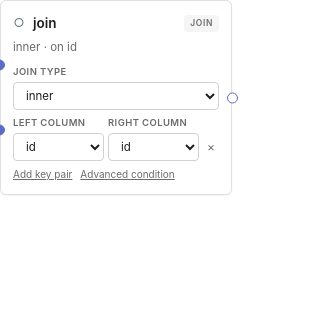
Scenario: Join card — join types come from the backend spec (UX-05) › uses separate port-aware selectors and serializes ordered heterogeneous pairs
The image size is (320, 315).
Expected: the dropdown named "Right key 1" shows "id", x1=108 y1=133 x2=199 y2=161
Expected: the dropdown named "Right key 1" does not show "_rowid", x1=108 y1=133 x2=199 y2=161
Select "_rowid" in the dropdown named "Left key 1" at {"x": 58, "y": 147}, box x1=13 y1=133 x2=104 y2=161
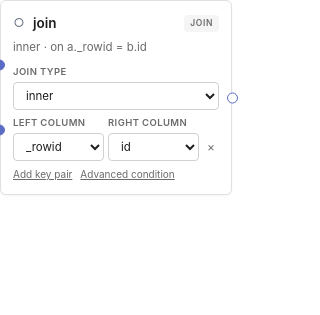
Select "original_row_id" in the dropdown named "Right key 1" at {"x": 154, "y": 147}, box x1=108 y1=133 x2=199 y2=161
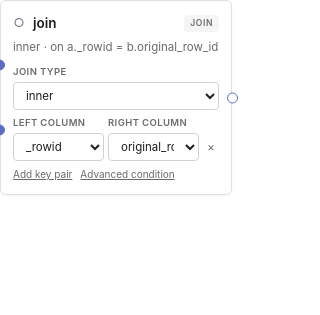
Click the button "Add key pair" at {"x": 43, "y": 174}, box x1=13 y1=167 x2=72 y2=182
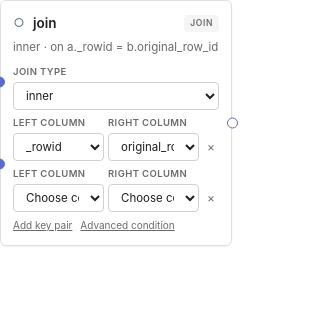
Select "region" in the dropdown named "Left key 2" at {"x": 58, "y": 198}, box x1=13 y1=184 x2=104 y2=212
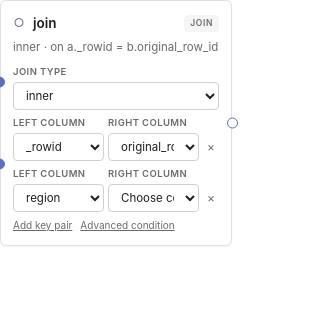
Select "region_id" in the dropdown named "Right key 2" at {"x": 154, "y": 198}, box x1=108 y1=184 x2=199 y2=212
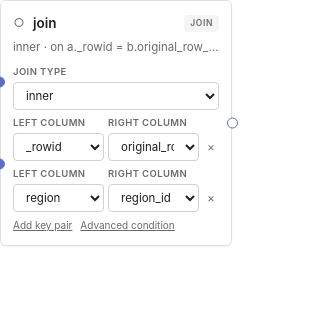
Click the button "Add key pair" at {"x": 43, "y": 226}, box x1=13 y1=218 x2=72 y2=233
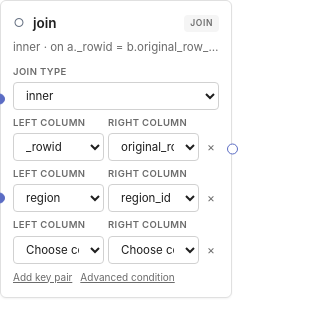
Expected: the dropdown named "Left key 3" shows "Choose column", x1=13 y1=236 x2=104 y2=264
Expected: the dropdown named "Right key 3" shows "Choose column", x1=108 y1=236 x2=199 y2=264
